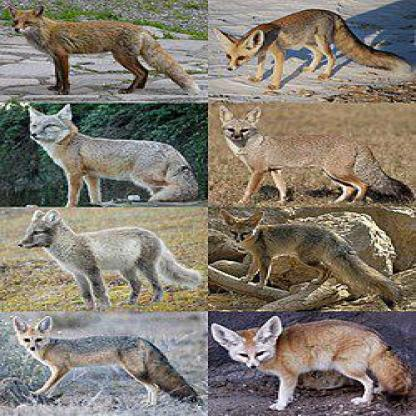raposa: (1, 2, 207, 98)
